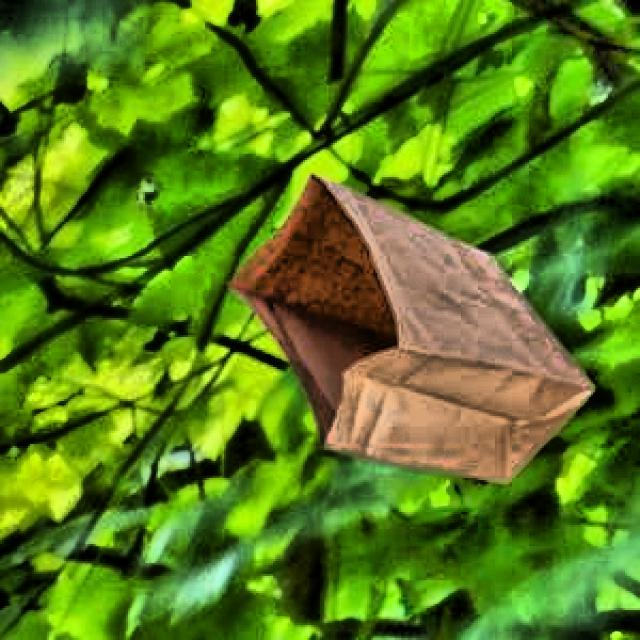Paper-bag: (218, 160, 600, 518)
